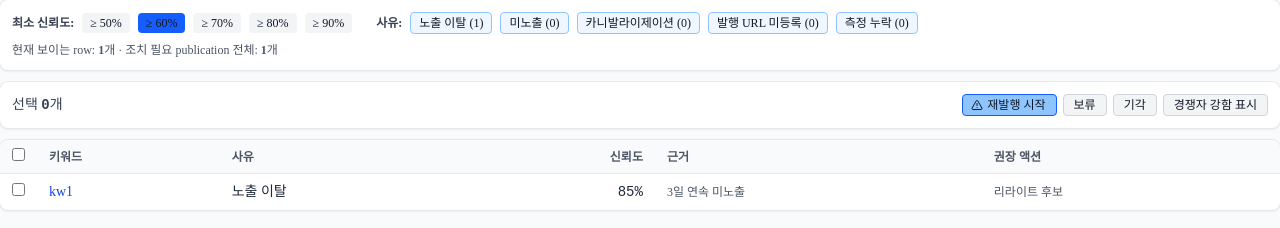
DiagnosesActionView › 체크박스 클릭 후 일괄 액션 버튼 활성화
Expected: the button "보류" is disabled, [1062,94,1107,116]
Click the checkbox named "kw1 선택".
click(18, 190)  # box [12,183,25,196]
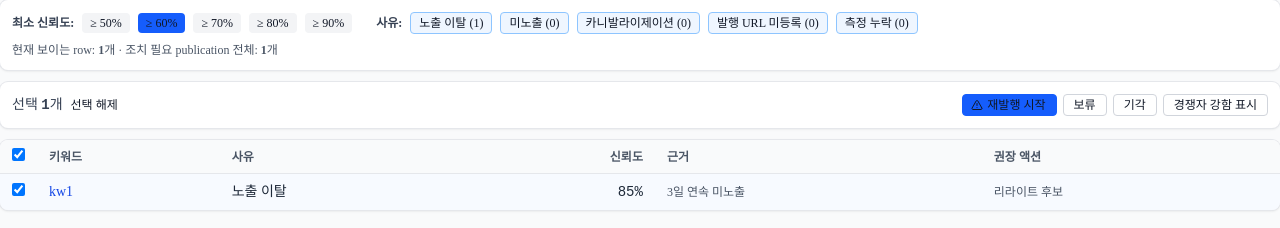
Expected: the button "보류" is enabled, [1062,94,1107,116]
Now the button "선택 해제" is shown, box [71,97,118,113]
